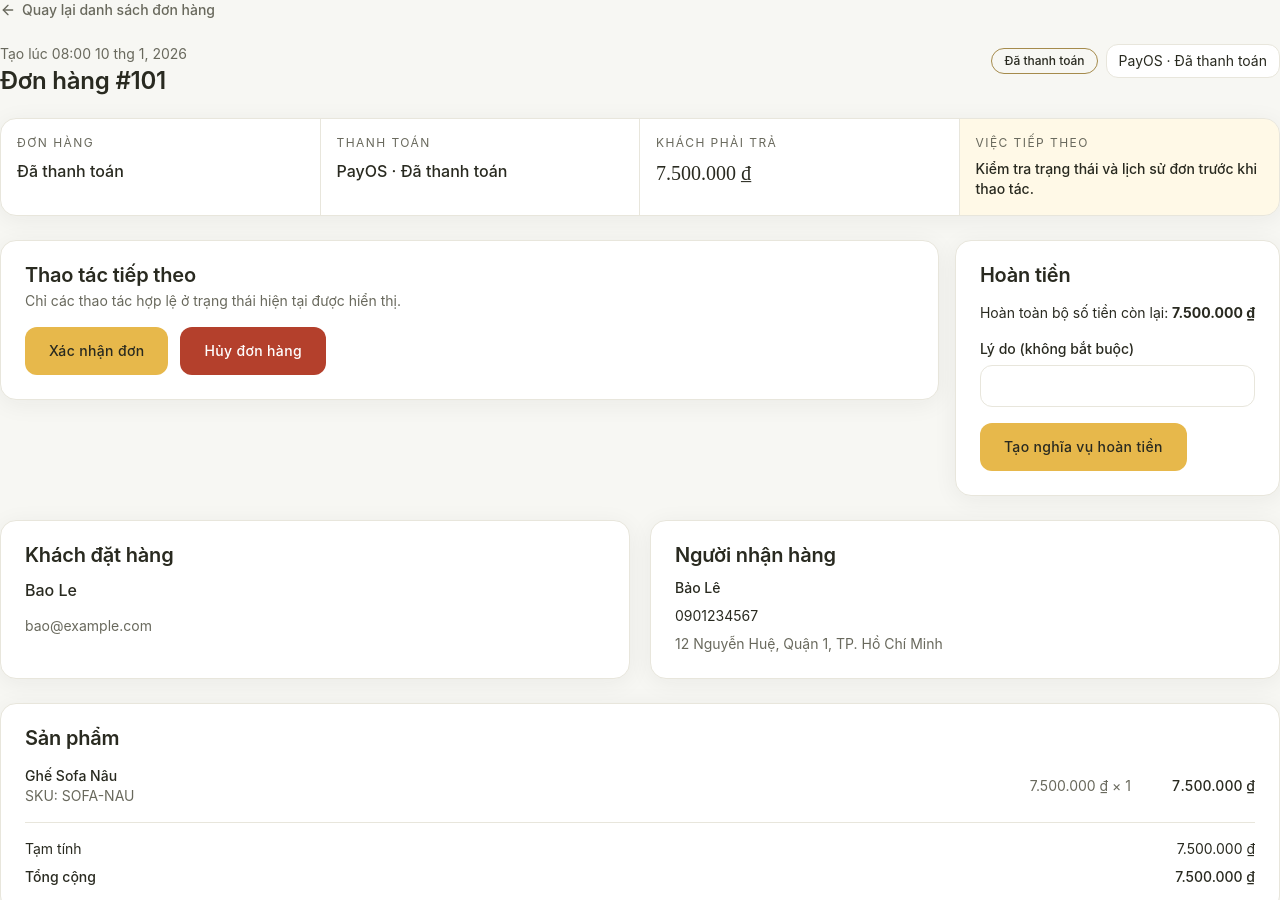
Test case: AdminOrderDetailPage › cancels only after explicit confirmation
Expected: the heading "Đơn hàng #101" is shown, [0,68,187,94]
Click the button "Hủy đơn hàng" at (253,350), box [180,326,326,374]
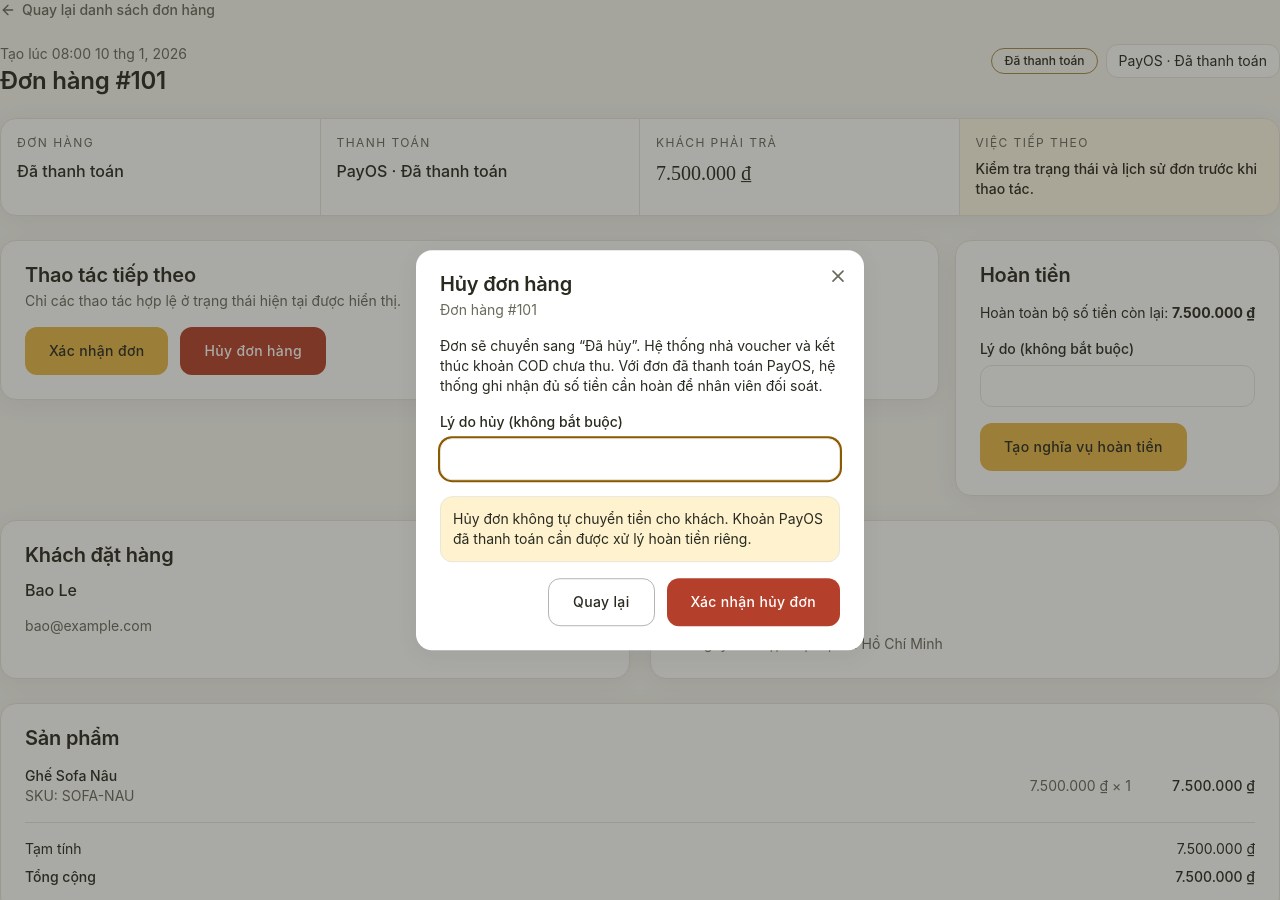
Click the button "Xác nhận hủy đơn" at (753,602), box [666,578,840,626]
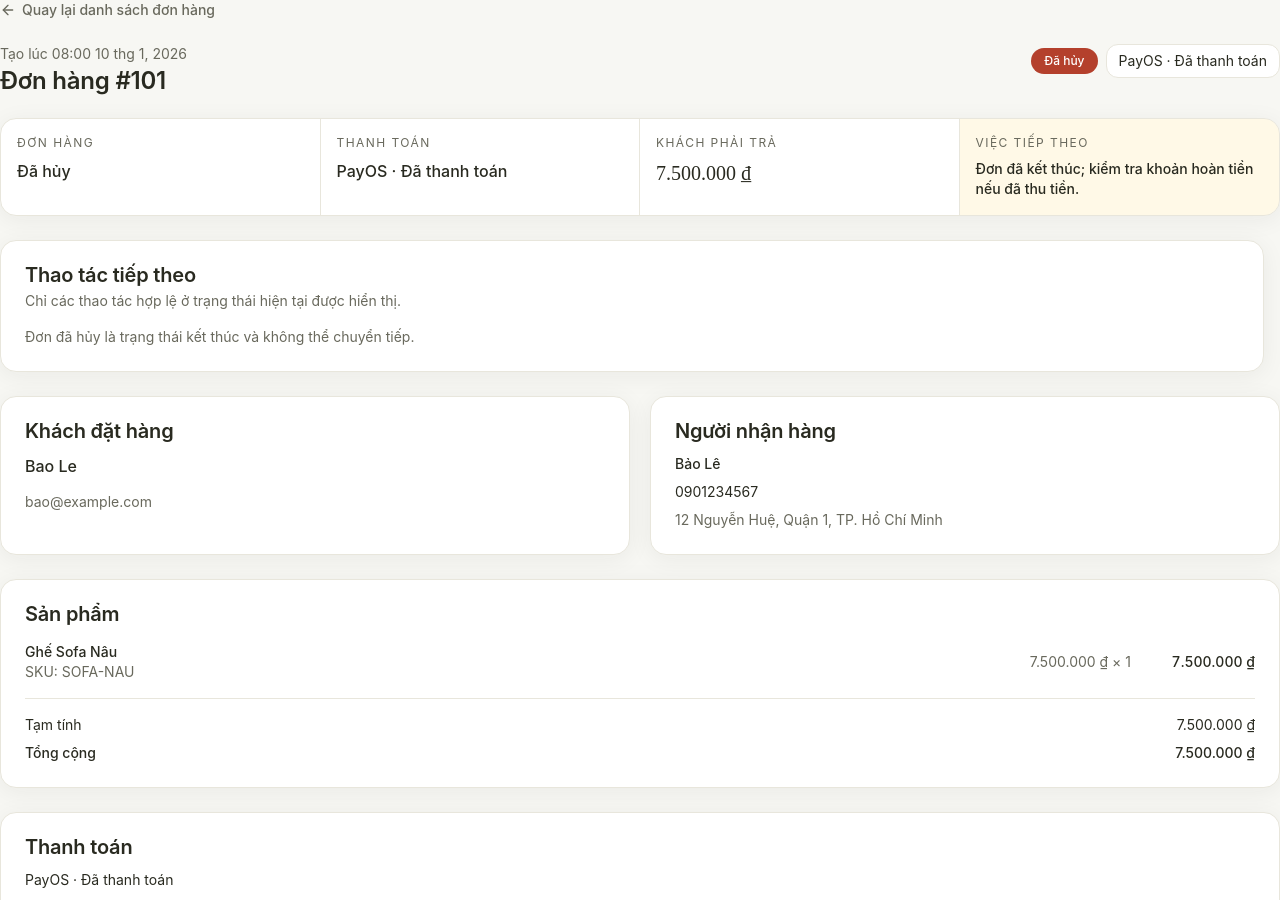
Result: the button "Hủy đơn hàng" is gone
